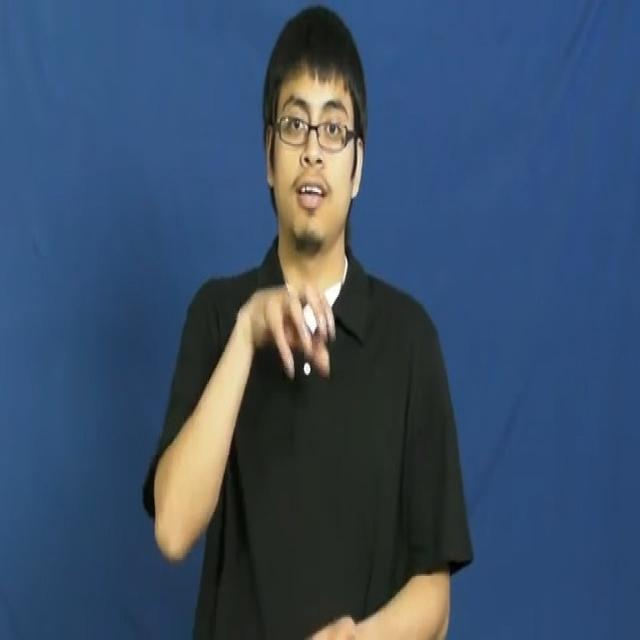cake: (224, 232, 344, 462)
